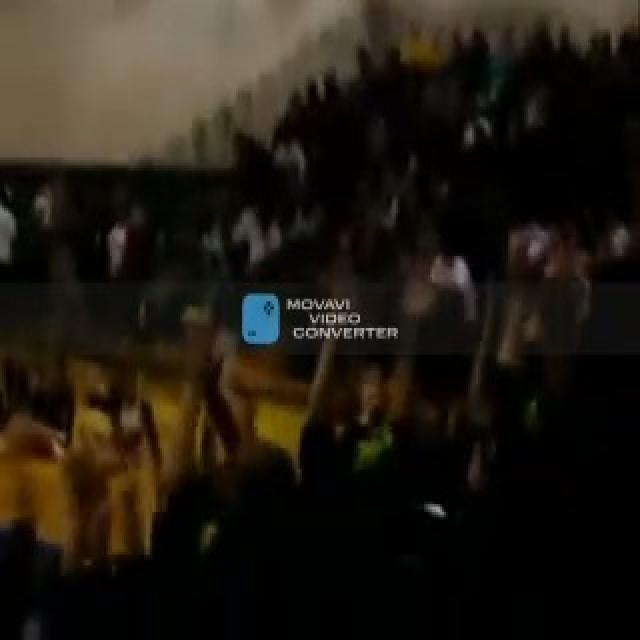non-voilence: (0, 0, 638, 637), (282, 293, 400, 344), (238, 288, 282, 347), (290, 323, 400, 344)
